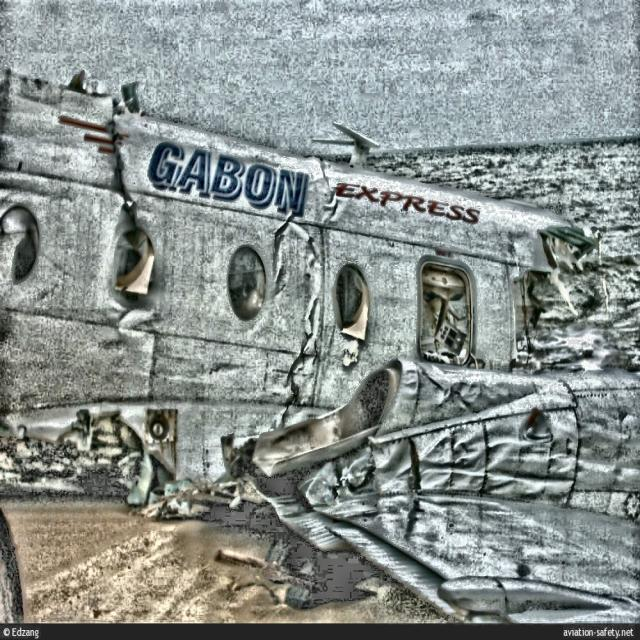crack: (283, 299, 324, 433), (105, 113, 139, 227), (274, 213, 300, 281), (404, 436, 427, 493)
